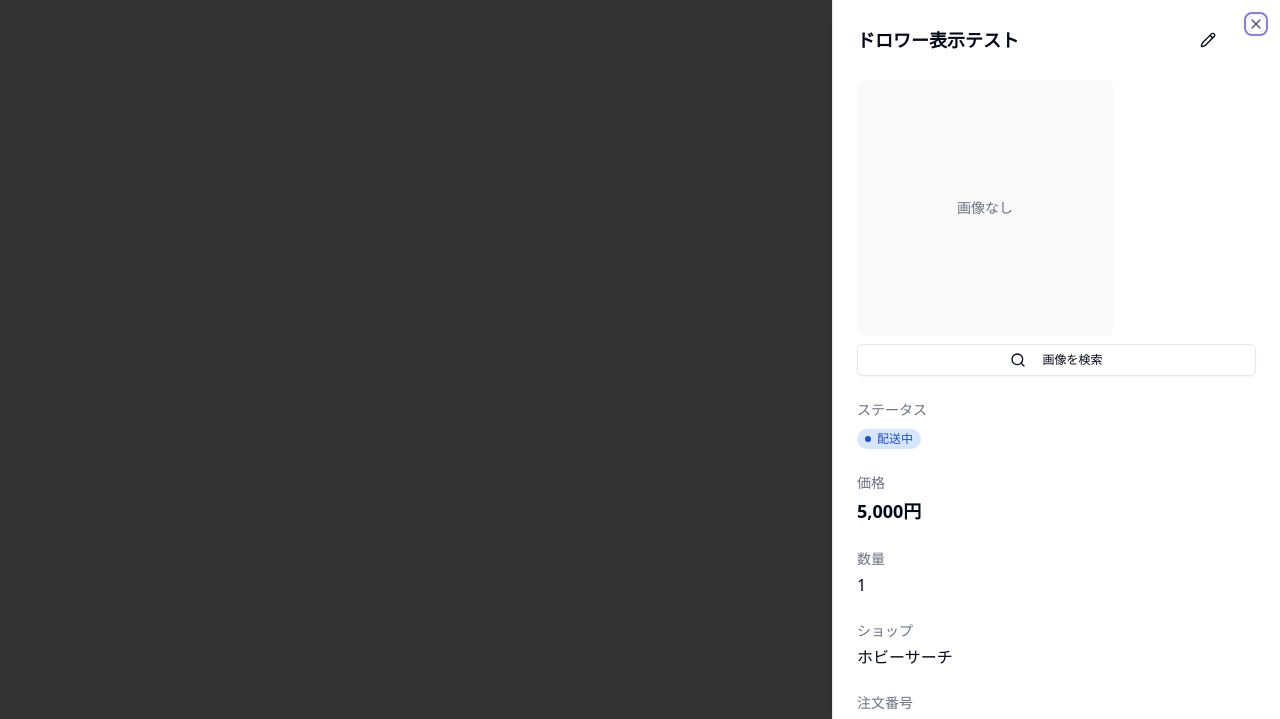
Scenario: OrderItemDrawer › opens image search when image area is clicked
What coordinates should you click on to do the following:
click the button titled "クリックして画像を検索"
I would click on:
 (985, 208)
Its box is [857,80,1113,336].
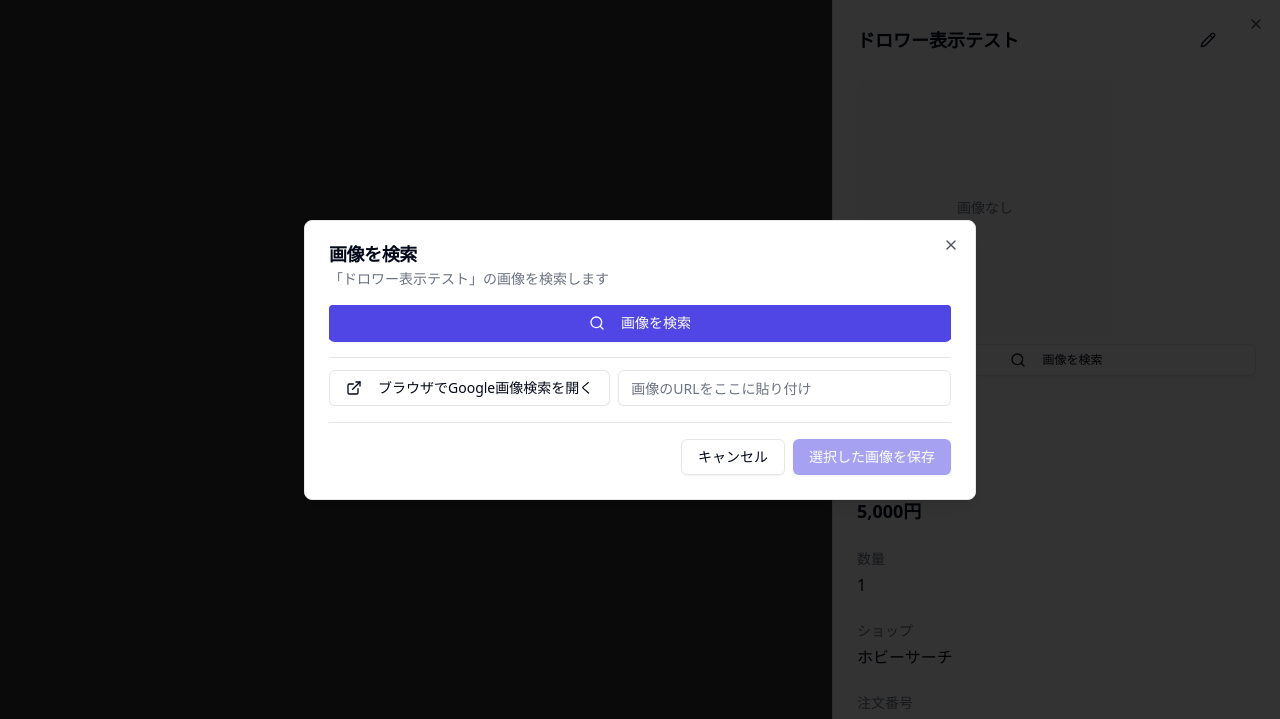
Check: the heading "画像を検索" is shown, box [329,242,417,266]
